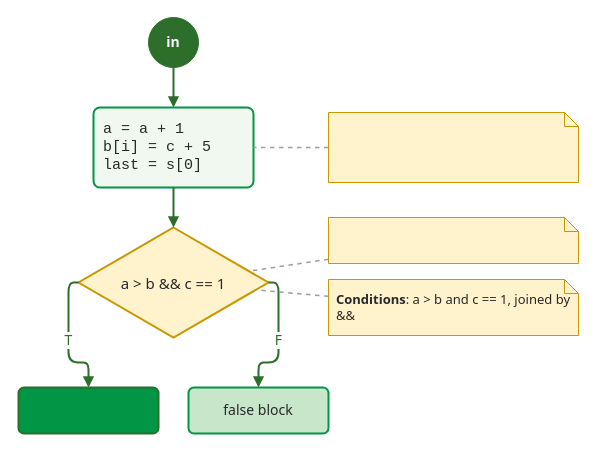
This 596x452 diagram has some shape labels left out. Each missing label, with the centre of its shape:
"Basic block : statements that always run together; one entry, one exit" belongs at point 453,147.
"Decision : picks the next block" belongs at point 453,240.
"true block" belongs at point 88,410.
